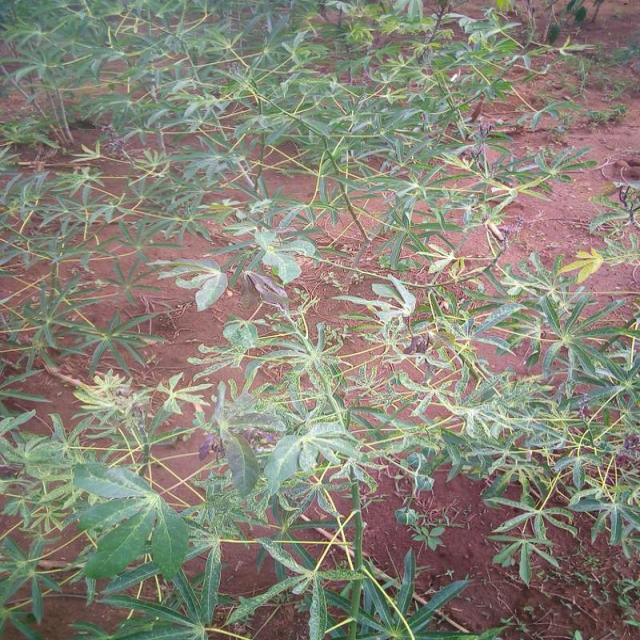cassava leaf: (1, 0, 638, 638), (72, 458, 191, 584)
